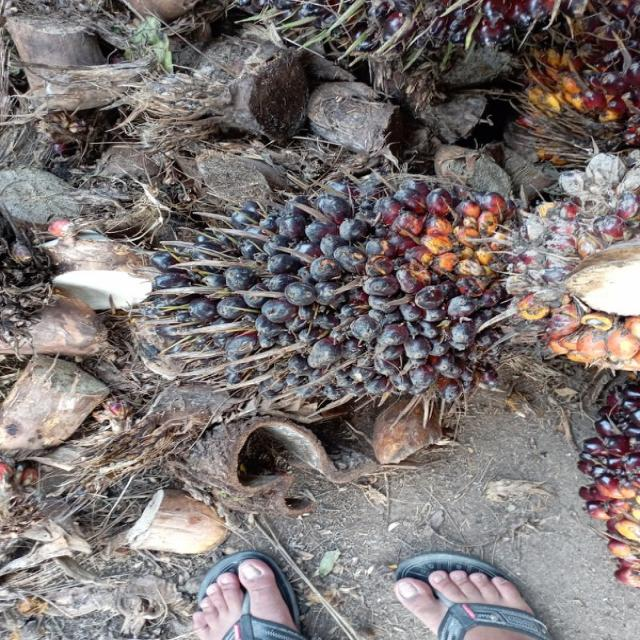fraksi 00: (146, 153, 541, 413)
